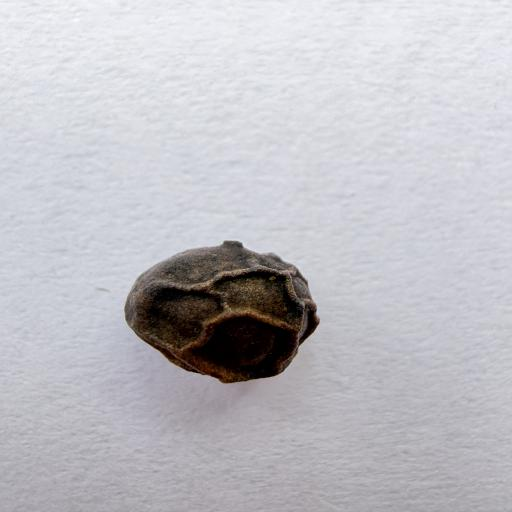Black_pepper: (90, 218, 384, 388)
